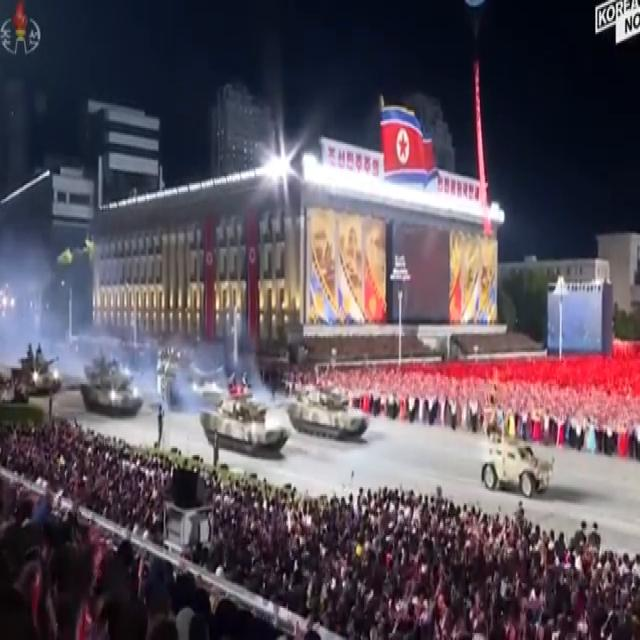north tank: (203, 368, 301, 486), (288, 372, 372, 466), (75, 350, 144, 426), (10, 338, 64, 411)
